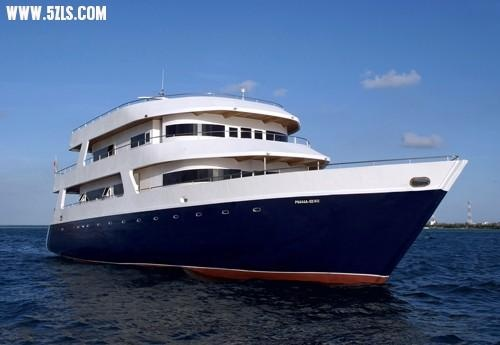yacht: (43, 77, 468, 285)
